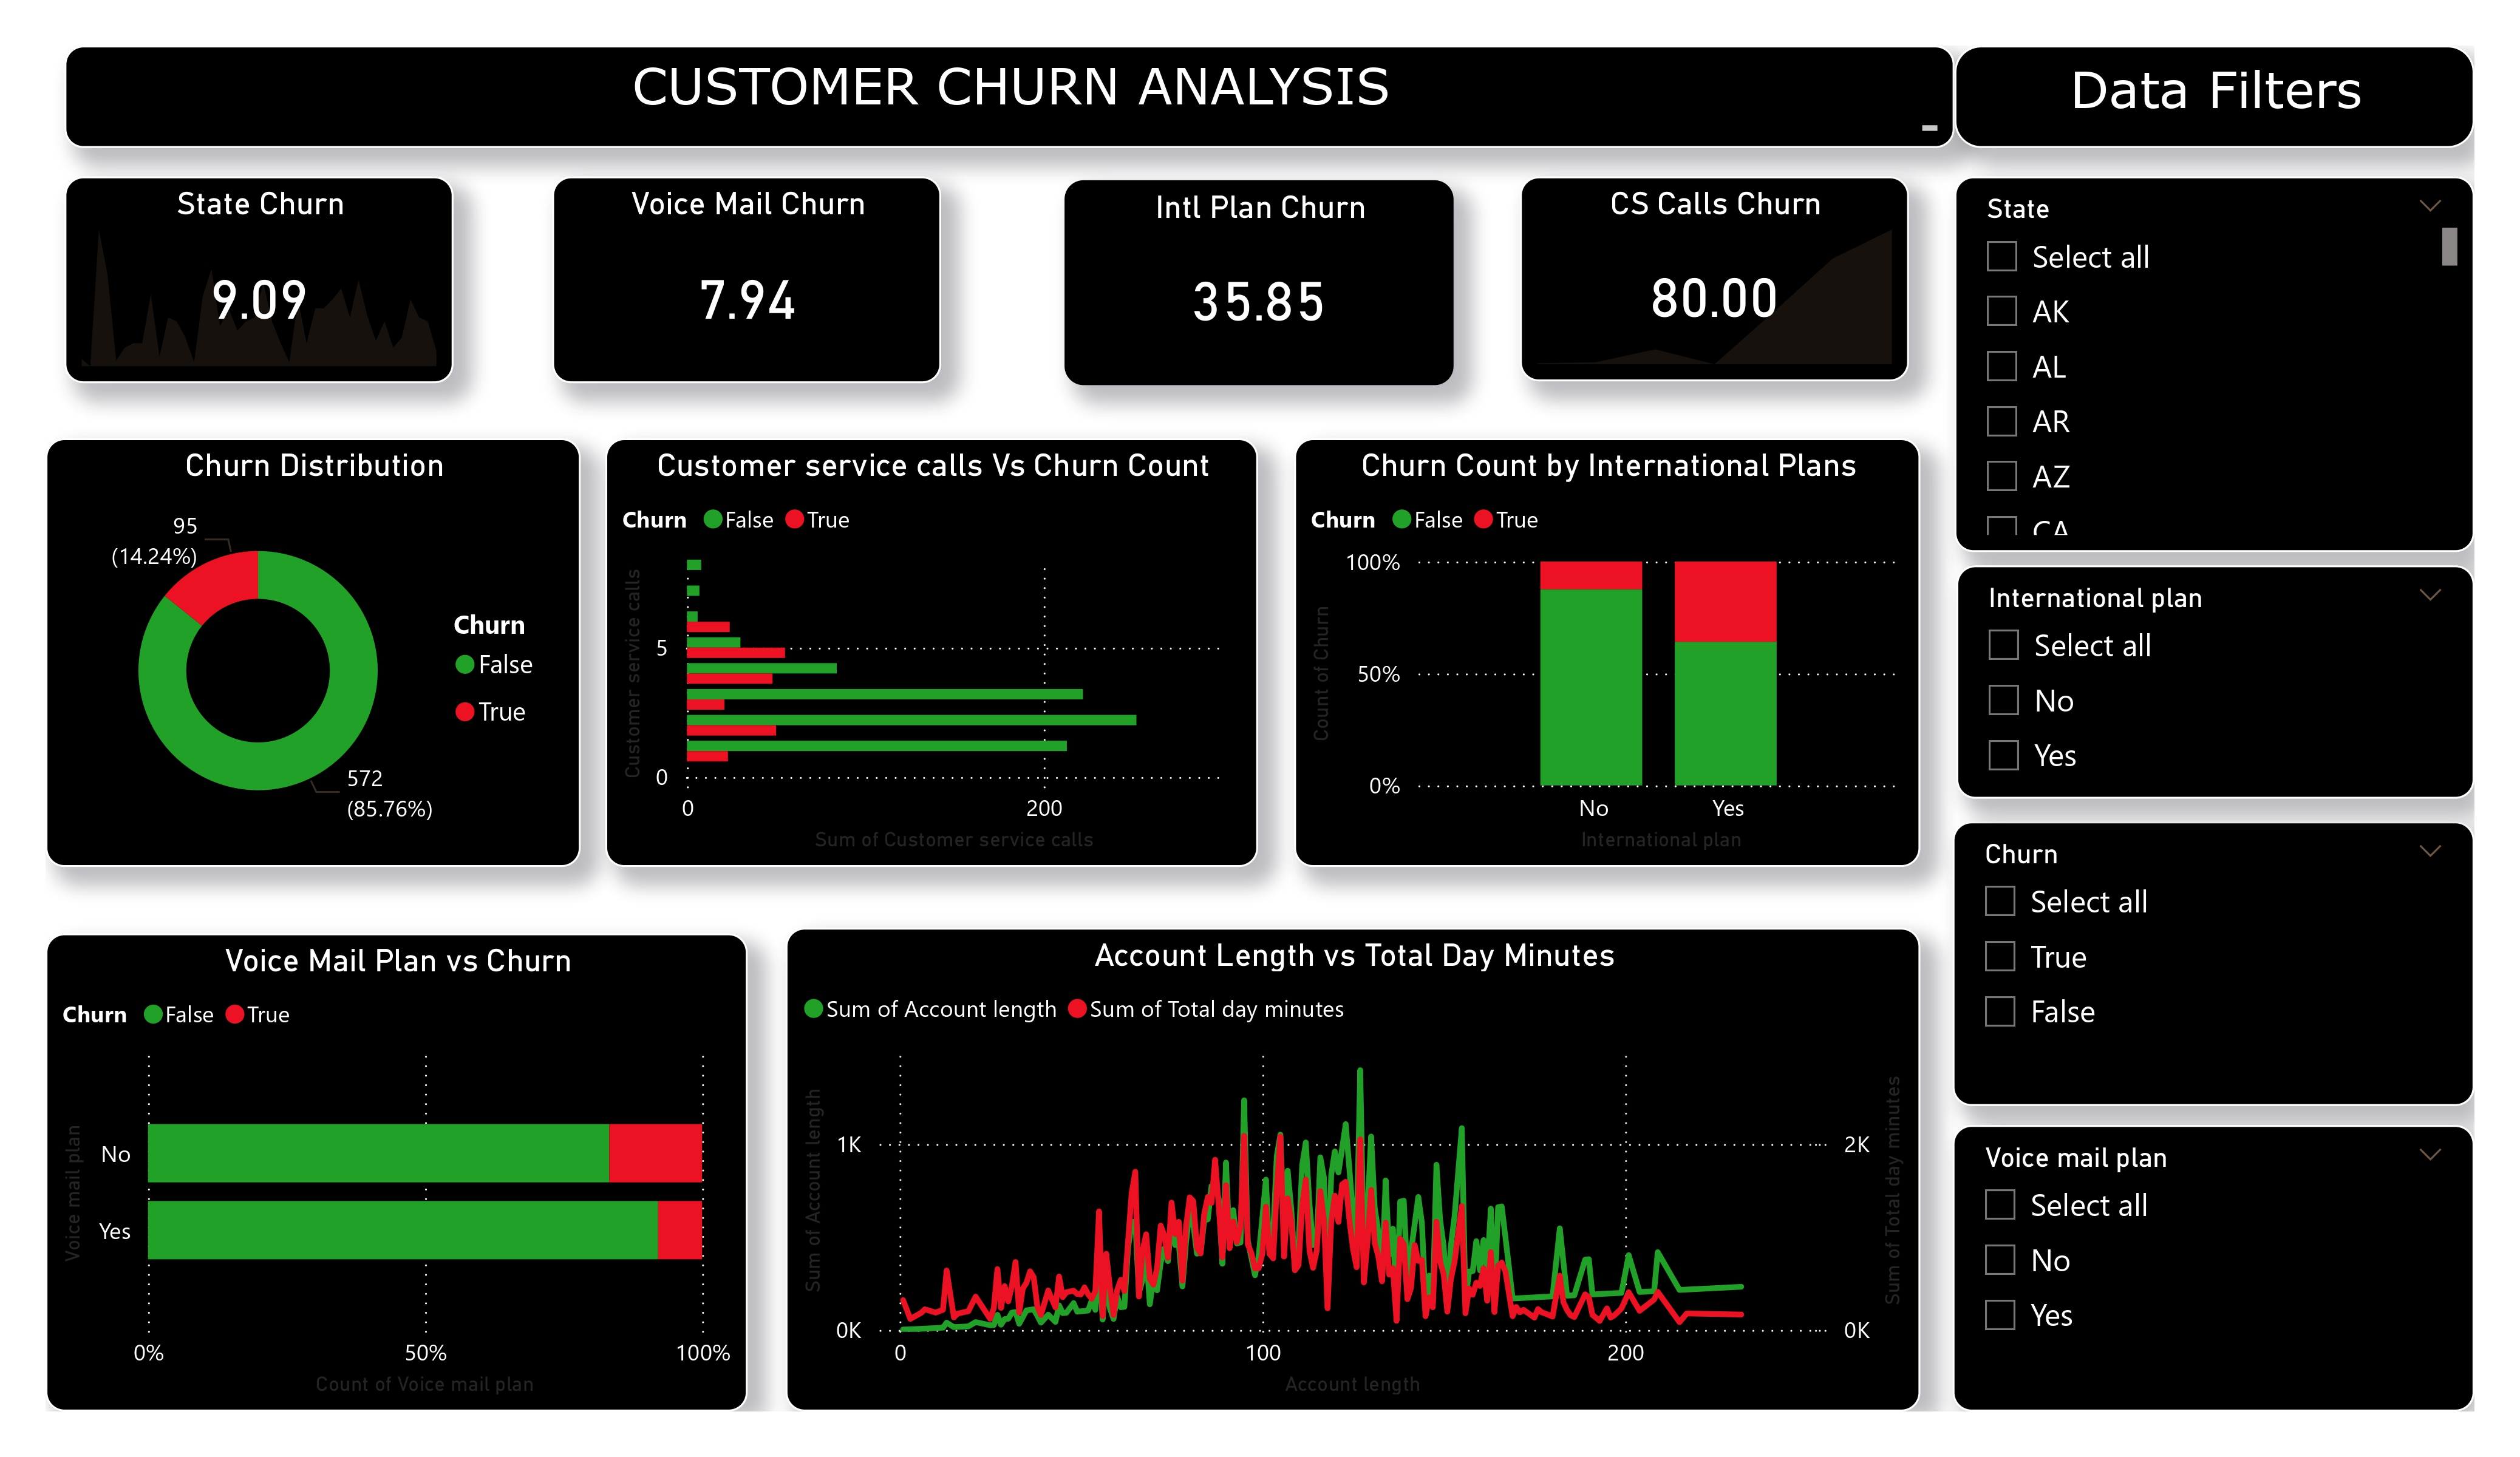

What the dashboard file says about the page in this screenshot:
{"tool":"powerbi","page":{"name":"Page 1","canvas":[1280,720],"ordinal":0},"visuals":[{"type":"textbox","title":"CUSTOMER CHURN ANALYSIS","box":[10.3,0,995.6,54.2],"z":0},{"type":"textbox","title":"Data Filters","box":[1006.1,0,273.9,53.7],"z":1000},{"type":"donutChart","title":"Churn Distribution","fields":{"Category":["churn-bigml-20.Churn"],"Y":["CountNonNull(churn-bigml-20.Churn)"]},"box":[0,207.4,282.2,226.1],"z":2000},{"type":"clusteredBarChart","title":"Customer service calls Vs Churn Count","fields":{"Category":["churn-bigml-20.Customer service calls"],"Y":["Sum(churn-bigml-20.Customer service calls)"],"Series":["churn-bigml-20.Churn"]},"box":[295.2,207.4,344.2,226.1],"z":3000},{"type":"hundredPercentStackedColumnChart","title":"Churn Count  by International Plans","fields":{"Category":["churn-bigml-20.International plan"],"Y":["CountNonNull(churn-bigml-20.Churn)"],"Series":["churn-bigml-20.Churn"]},"box":[658.1,207.4,329.8,226.1],"z":4000},{"type":"lineChart","title":"Account Length vs Total Day Minutes","fields":{"Category":["churn-bigml-20.Account length"],"Y":["Sum(churn-bigml-20.Account length)"],"Y2":["Sum(churn-bigml-20.Total day minutes)"]},"box":[390.2,465.1,597.6,254.9],"z":5000},{"type":"kpi","title":" State Churn","fields":{"Indicator":["churn-bigml-20.Churn Rate (%)"],"TrendLine":["churn-bigml-20.State"]},"box":[10.1,68.9,204.9,109.2],"z":6000},{"type":"kpi","title":"Voice Mail Churn","fields":{"Indicator":["churn-bigml-20.Churn Rate Voice Mail"],"TrendLine":["churn-bigml-20.Voice mail plan"]},"box":[267.1,68.9,204.9,109.2],"z":7000},{"type":"kpi","title":"Intl Plan Churn","fields":{"Indicator":["churn-bigml-20.Churn Rate Intl Plan"],"TrendLine":["churn-bigml-20.International plan"]},"box":[537.1,70.6,204.5,108],"z":8000},{"type":"kpi","title":"CS Calls Churn","fields":{"TrendLine":["churn-bigml-20.Customer service calls"],"Indicator":["churn-bigml-20.Churn Rate (%)"]},"box":[777.1,68.9,205.3,108.5],"z":9000},{"type":"hundredPercentStackedBarChart","title":"Voice Mail Plan vs Churn","fields":{"Category":["churn-bigml-20.Voice mail plan"],"Y":["CountNonNull(churn-bigml-20.Voice mail plan)"],"Series":["churn-bigml-20.Churn"]},"box":[0,467.7,369.9,252.3],"z":10000},{"type":"slicer","fields":{"Values":["churn-bigml-20.Churn"]},"box":[1005.1,409,275,149.8],"z":10500},{"type":"slicer","fields":{"Values":["churn-bigml-20.State"]},"box":[1006.1,68.8,273.9,198.2],"z":11000},{"type":"slicer","fields":{"Values":["churn-bigml-20.International plan"]},"box":[1006.6,273.6,273.6,123.8],"z":12000},{"type":"slicer","fields":{"Values":["churn-bigml-20.Voice mail plan"]},"box":[1005.1,568.8,275,151.2],"z":13000}]}

Visuals, with their boxes in screenshot pixels (x1, y1, x2, y2):
"CUSTOMER CHURN ANALYSIS" textbox: x1=85 y1=46 x2=1949 y2=148
"Data Filters" textbox: x1=1950 y1=46 x2=2463 y2=146
"Churn Distribution" donutChart: x1=66 y1=434 x2=594 y2=858
"Customer service calls Vs Churn Count" clusteredBarChart: x1=618 y1=434 x2=1263 y2=858
"Churn Count  by International Plans" hundredPercentStackedColumnChart: x1=1298 y1=434 x2=1916 y2=858
"Account Length vs Total Day Minutes" lineChart: x1=796 y1=917 x2=1915 y2=1394
" State Churn" kpi: x1=84 y1=175 x2=468 y2=379
"Voice Mail Churn" kpi: x1=566 y1=175 x2=950 y2=379
"Intl Plan Churn" kpi: x1=1071 y1=178 x2=1454 y2=380
"CS Calls Churn" kpi: x1=1521 y1=175 x2=1905 y2=378
"Voice Mail Plan vs Churn" hundredPercentStackedBarChart: x1=66 y1=922 x2=758 y2=1394
slicer - churn-bigml-20.Churn: x1=1948 y1=812 x2=2463 y2=1092
slicer - churn-bigml-20.State: x1=1950 y1=175 x2=2463 y2=546
slicer - churn-bigml-20.International plan: x1=1950 y1=558 x2=2463 y2=790
slicer - churn-bigml-20.Voice mail plan: x1=1948 y1=1111 x2=2463 y2=1394
